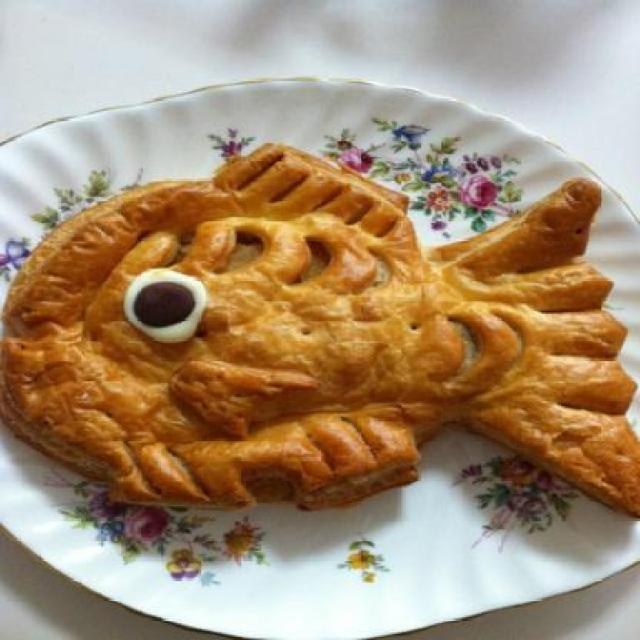Apple: (3, 156, 639, 522)
